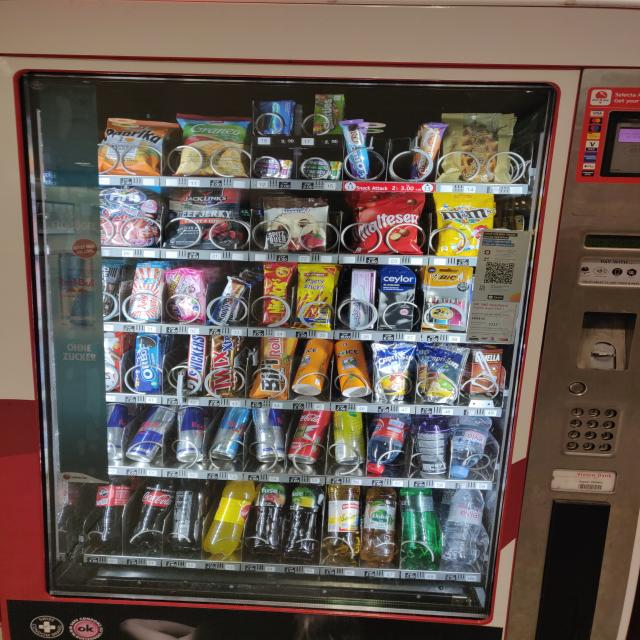airwaves_menthoneucalyptus_riegel_14_1_50173167: (257, 98, 299, 135)
bifi_roll__50__4251097402635: (250, 337, 296, 401)
bueno___43__4008400320328: (95, 333, 127, 391)
c-swiss_dosenabisicetea__33__9120025930135: (332, 340, 374, 398), (293, 340, 333, 395)
caferoyal_classicmacchiato__33__7617014164487: (413, 418, 458, 477)
caprisun_multivitamin__20__4000177605004: (411, 343, 466, 403), (366, 341, 418, 402)
coke__dose_33__54491472: (288, 408, 333, 464)
coke__flasche_50__54491472: (87, 474, 133, 548)
coke_zero_flasche_50__5449000131836: (125, 479, 175, 545)
comella_schokodrink__33__7613100037253: (468, 346, 507, 394)
evian___50__3068320353500: (453, 413, 494, 479)
fini_galaxymix_packung_100_1_8410525150364: (98, 184, 164, 246)
fini_jellykisses_packung_80_1_8410525116704: (162, 266, 208, 328)
fuse_lemon__50__5449000235947: (280, 486, 328, 560)
fuse_lemon_dose_33__5449000235947: (328, 412, 365, 464)
fuse_peach__50__5449000236623: (247, 484, 289, 554)
henniez_rot__33__7610235000442: (366, 412, 410, 474)
jacklinks_beefjerkyorginal__25__4047751730219: (174, 188, 245, 250)
jlbrichard_gauffre__90__5410495002000: (440, 112, 514, 182)
kagi_specialedition__50__7610046000259: (128, 263, 166, 322)
knoppers_riegel____4035800488808: (210, 276, 249, 326)
lorenz_nicnacs__40__4018077798818: (260, 260, 299, 330)
malburner_partysticks__40__7610200279682: (292, 264, 339, 333)
maltesers___100__5000159023061: (354, 190, 431, 256)
mnms_gelb__45__40111445: (434, 192, 499, 256)
oreo___66__84100733: (129, 334, 164, 392)
pepsi_max__50__4060800105943: (167, 477, 208, 550)
ramseier_schorle__50__7610057012456: (323, 485, 365, 557)
redbull___33__90162909: (124, 406, 172, 464), (247, 410, 291, 464), (170, 408, 208, 465), (96, 403, 129, 459)
redbull_light__33__90162800: (209, 408, 247, 463)
sinalco_orange__50__4018715000112: (199, 481, 257, 556)
skittles_sour_riegel_51_1_0000000000004: (311, 92, 347, 134)
snickers___50__5000159461122: (182, 335, 208, 397)
stimorol_spearmint_riegel_14_1_0000000000005: (300, 160, 344, 180)
stimorol_wildcherry_riegel_14_1_57060330: (258, 159, 294, 177)
twix___50__5000159459228: (204, 335, 239, 395)
valser_classic__50__76404160: (400, 488, 451, 561)
zweifel_graneochilli__100__7610095184009: (173, 112, 255, 176)
zweifel_paprika__90__7610095013002: (92, 118, 168, 174)
